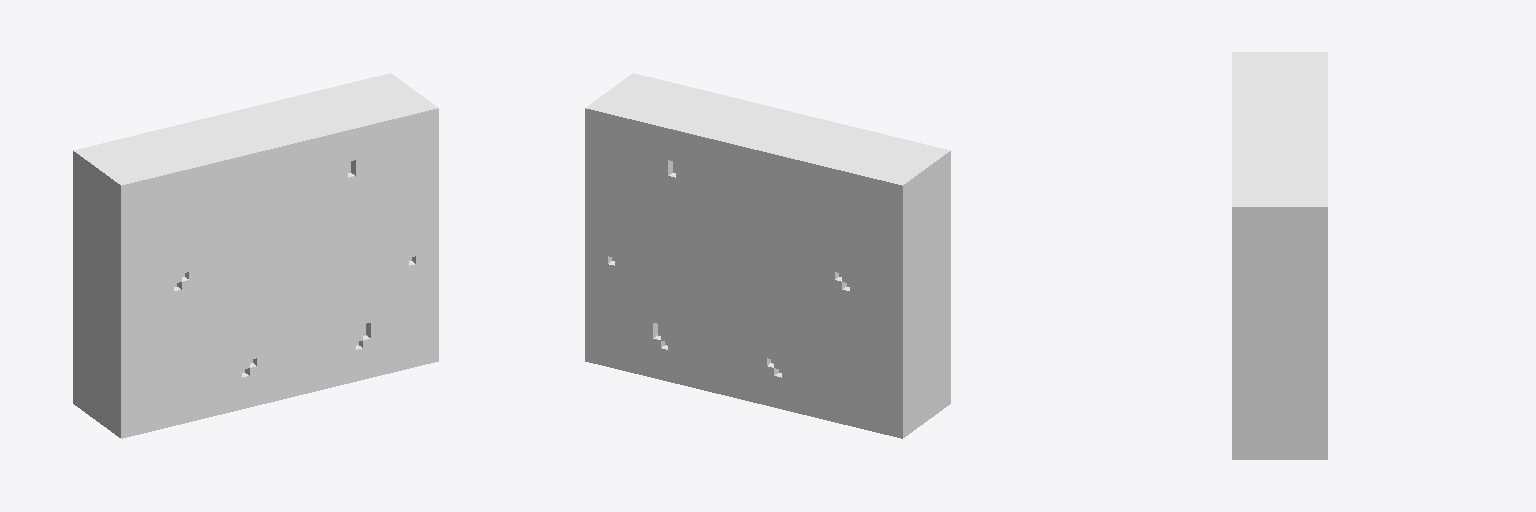
The model's file is HHP_HelpDoorTop.obj.
The picture shows the model from 3 angles: view 1: azimuth 30°, elevation 25°; view 2: azimuth 150°, elevation 25°; view 3: azimuth 270°, elevation 25°; orthographic projection.
Parts seen in each view (by area): view 1: object 1; view 2: object 1; view 3: object 1.
Boxes of the visible parts, <box> form: object 1: <box>73,73,438,438</box>; object 1: <box>585,73,950,438</box>; object 1: <box>1232,52,1327,459</box>.
Bounding box in the file's own units: 4.2 × 3.2 × 1.1.